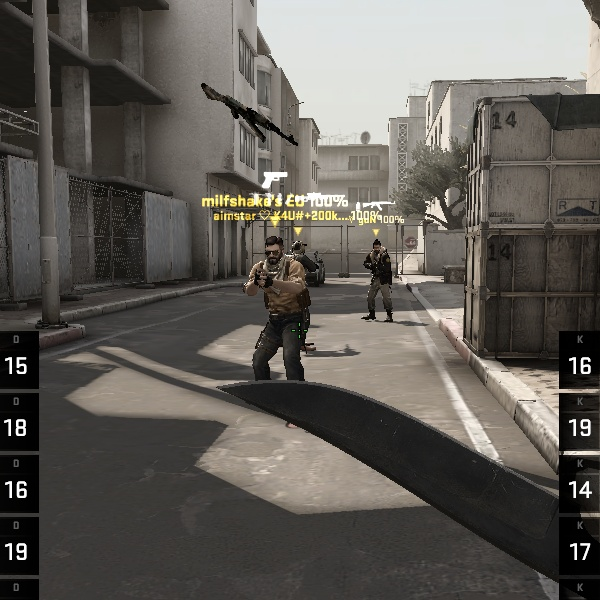t_body: (231, 236, 322, 387), (353, 236, 402, 324)
t_head: (258, 233, 290, 267)
